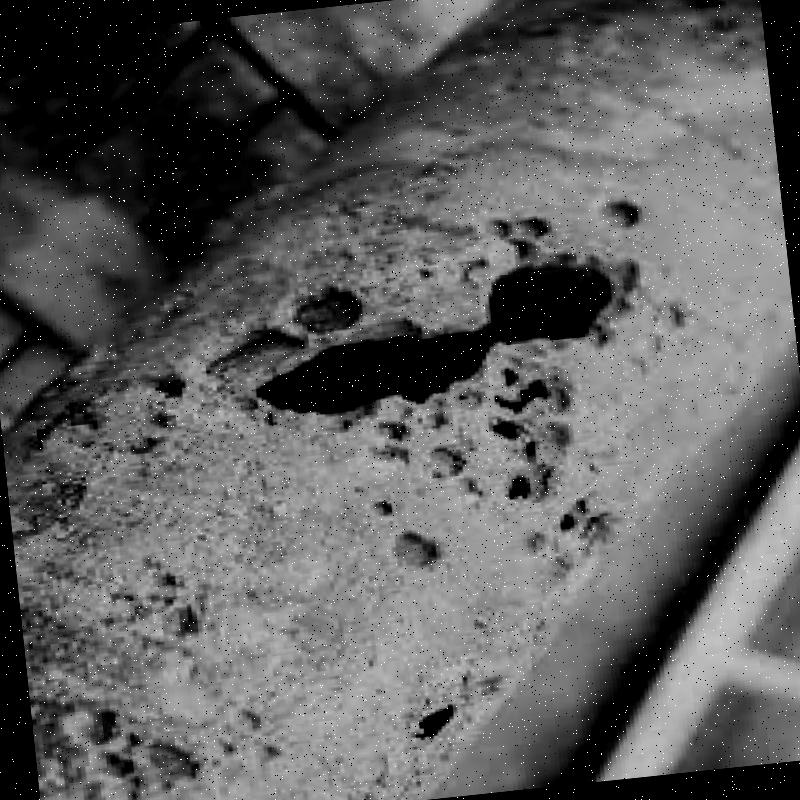Fracture: (215, 246, 638, 408)
